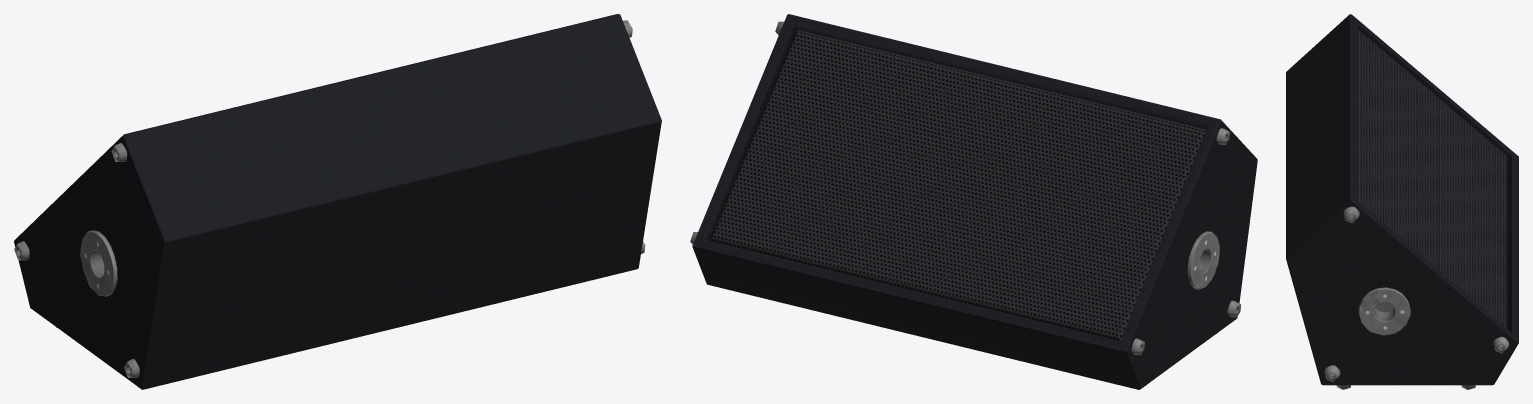
Rendered from Speakers01 (1).fbx.
3 renders of one model, left to right at view 1: azimuth 30°, elevation 25°; view 2: azimuth 150°, elevation 25°; view 3: azimuth 270°, elevation 25°, orthographic. The views are drawn at different scales.
Parts seen in each view (by area): view 1: Speakers01 (1); view 2: Speakers01 (1); view 3: Speakers01 (1).
Part boxes in pixels (x1,y1,x2,y2): Speakers01 (1): (14,14,661,389); Speakers01 (1): (690,14,1257,389); Speakers01 (1): (1286,14,1518,389).
Bounding box in the file's own units: 1.03 × 0.5288 × 0.4832.
